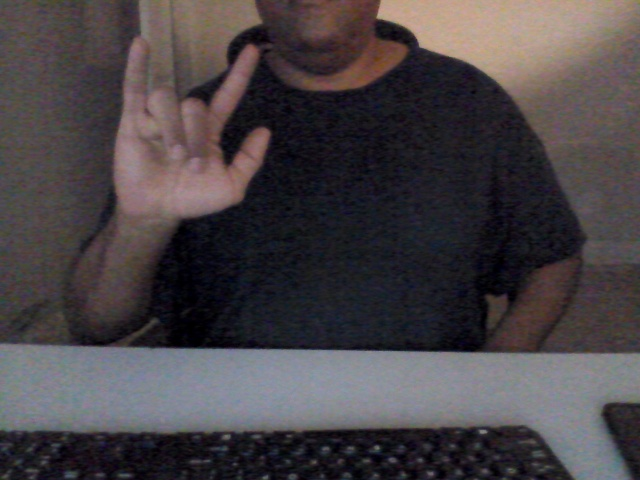i_love_you: (104, 34, 272, 220)
